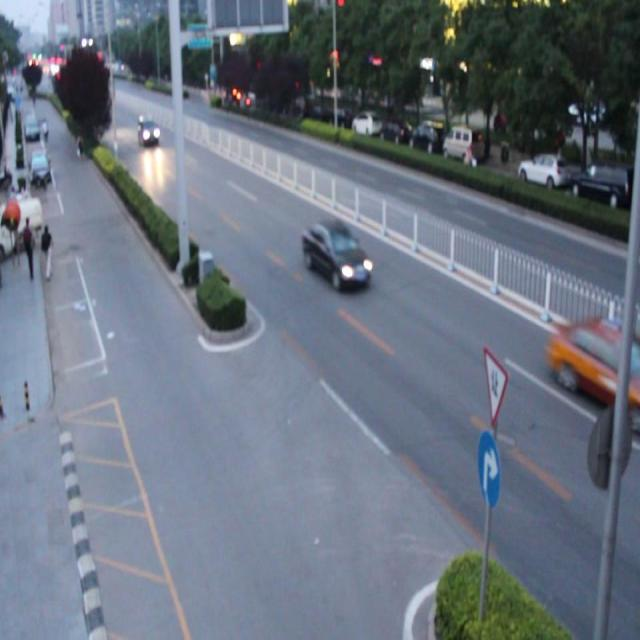car: (546, 301, 640, 435), (303, 215, 371, 288)
